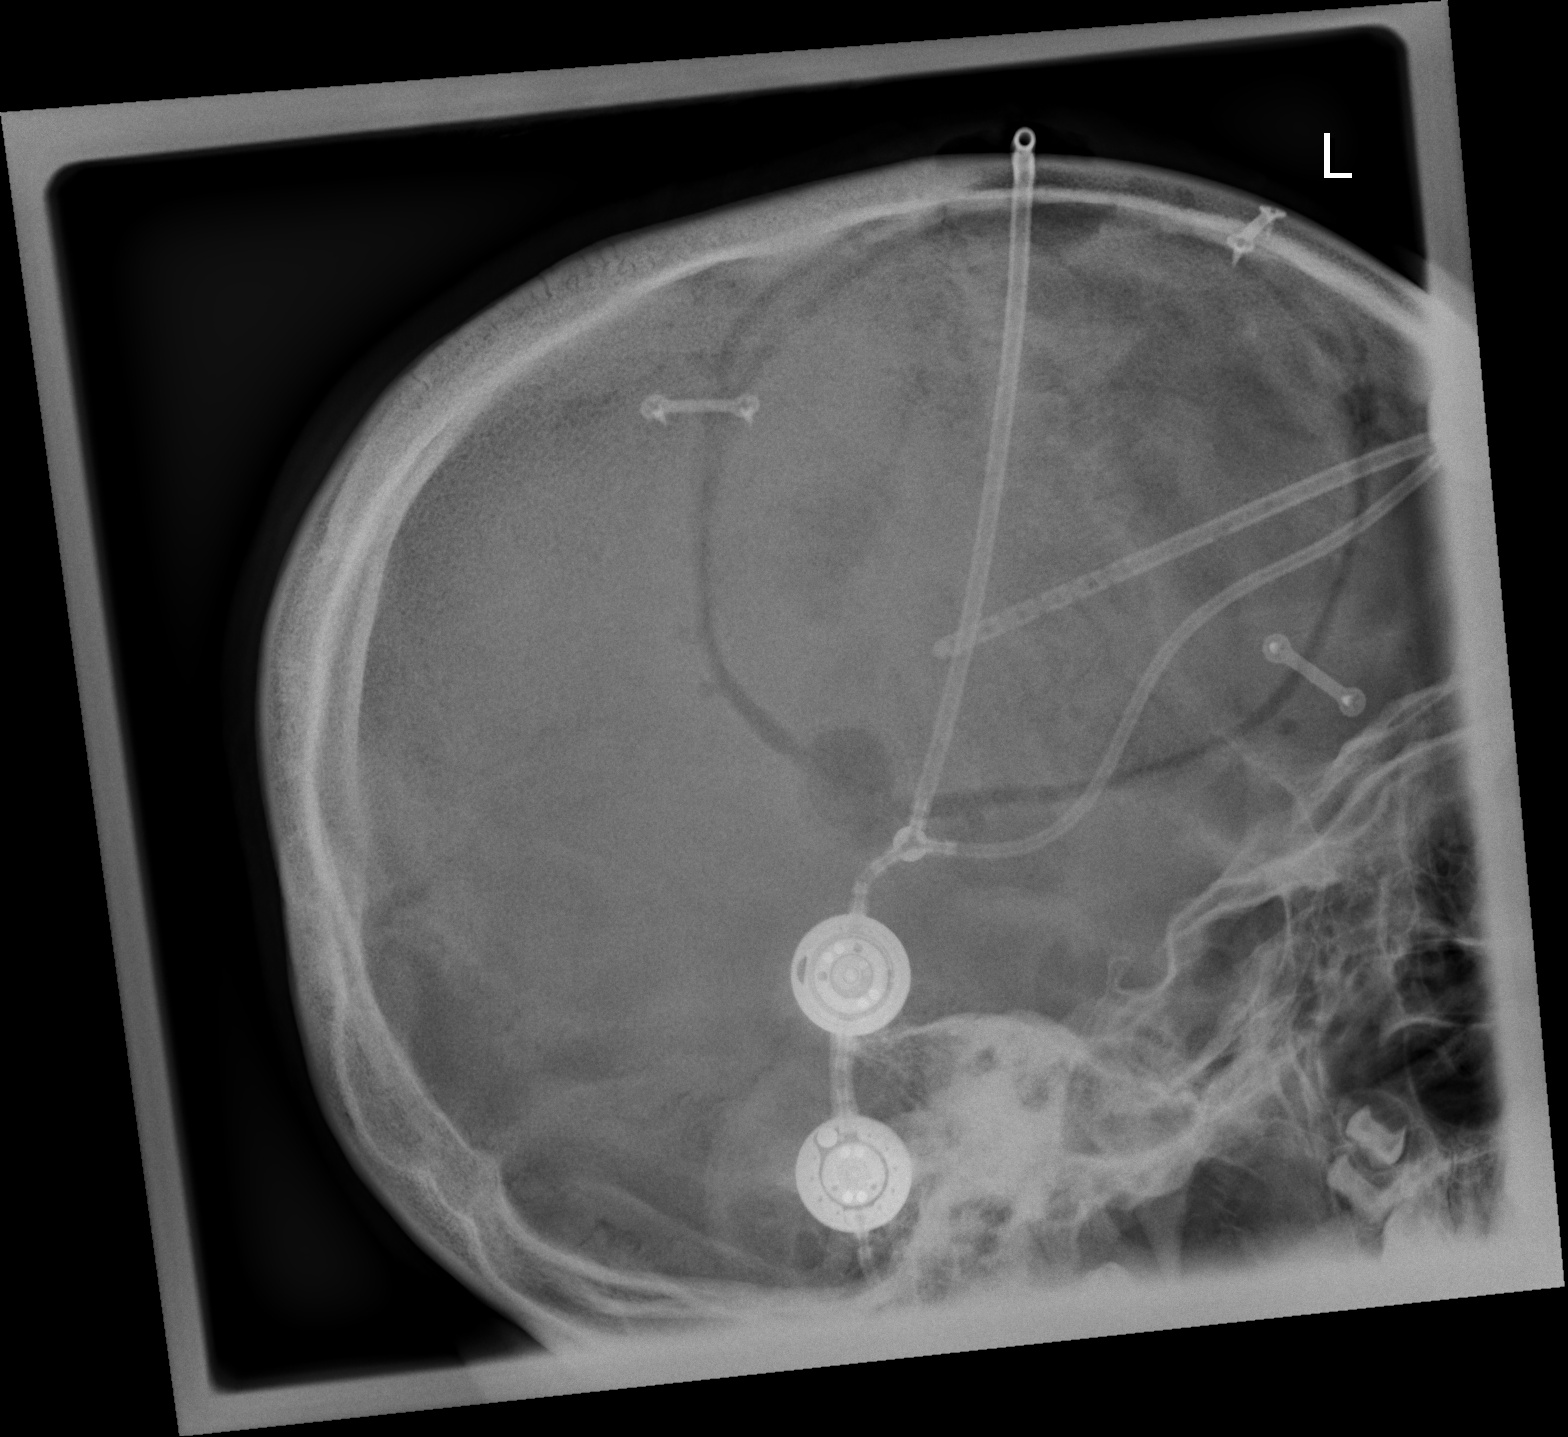m.blue: (789, 1109, 916, 1240)
proGAV 2.0: (780, 906, 914, 1040)
